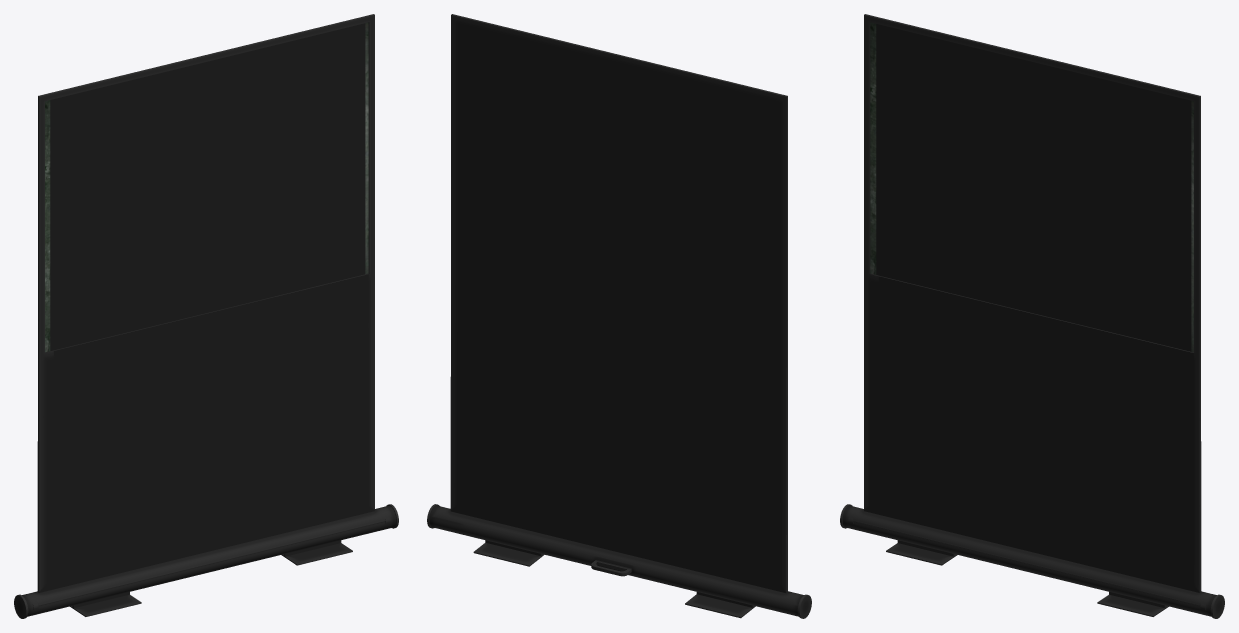
Rendered from screen.obj.
3 views of the same model, side by side, from view 1: azimuth 30°, elevation 25°; view 2: azimuth 150°, elevation 25°; view 3: azimuth 330°, elevation 25° (orthographic).
Parts seen in each view (by area): view 1: Cube; view 2: Cube; view 3: Cube.
Boxes of the visible parts, <box> form: Cube: <box>14,14,398,618</box>; Cube: <box>427,14,811,618</box>; Cube: <box>840,14,1224,618</box>.
Size of the model in its own units: 2 by 2.67 by 0.2344.
Materials: 1 (1 with a texture image).
